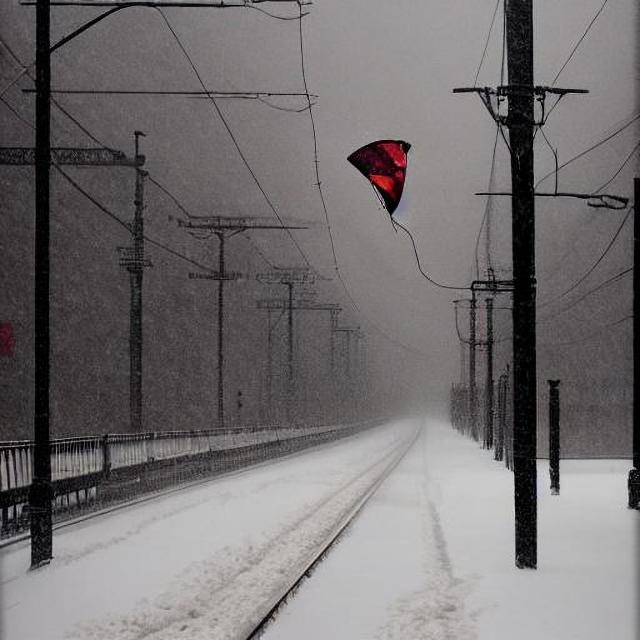floating object: (343, 137, 412, 225)
